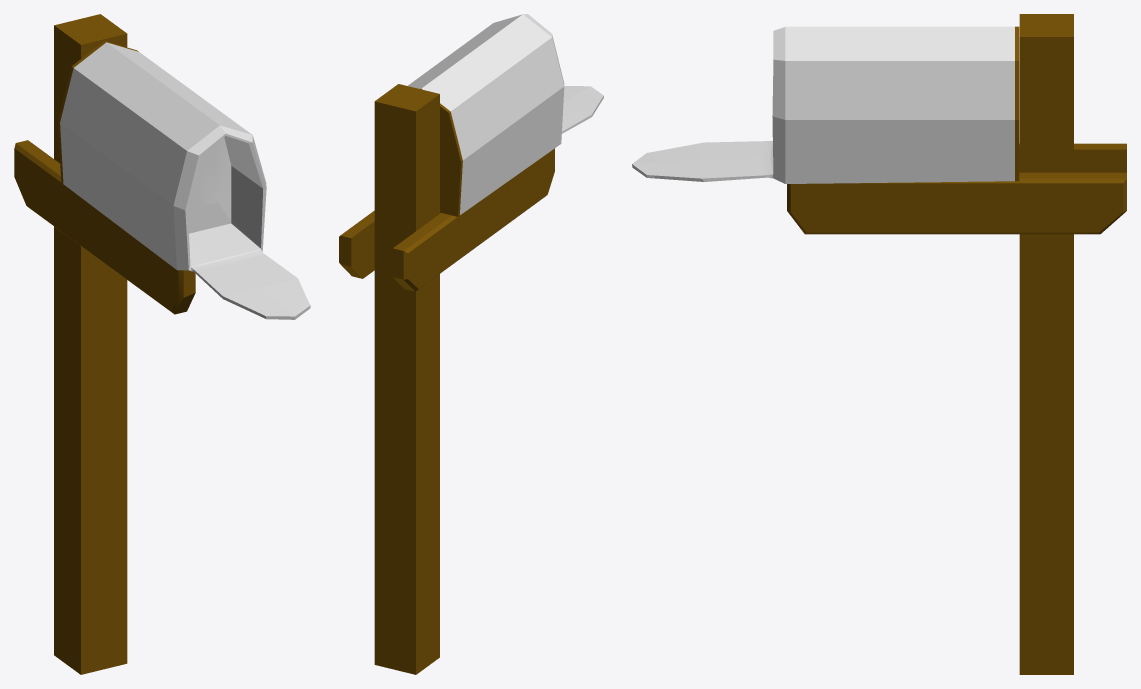
File: mailbox.fbx
The picture shows the model from 3 angles, left to right: view 1: azimuth 30°, elevation 25°; view 2: azimuth 150°, elevation 25°; view 3: azimuth 270°, elevation 25°; orthographic projection. The views are drawn at different scales.
Visible parts, largest first — view 1: pCube2; view 2: pCube2; view 3: pCube2.
Boxes of the visible parts, left/top/right/bottom form: pCube2: left=14, top=14, right=310, bottom=674; pCube2: left=339, top=14, right=603, bottom=674; pCube2: left=632, top=14, right=1126, bottom=674.
Bounding box in the file's own units: 2 × 12.96 × 9.11.
